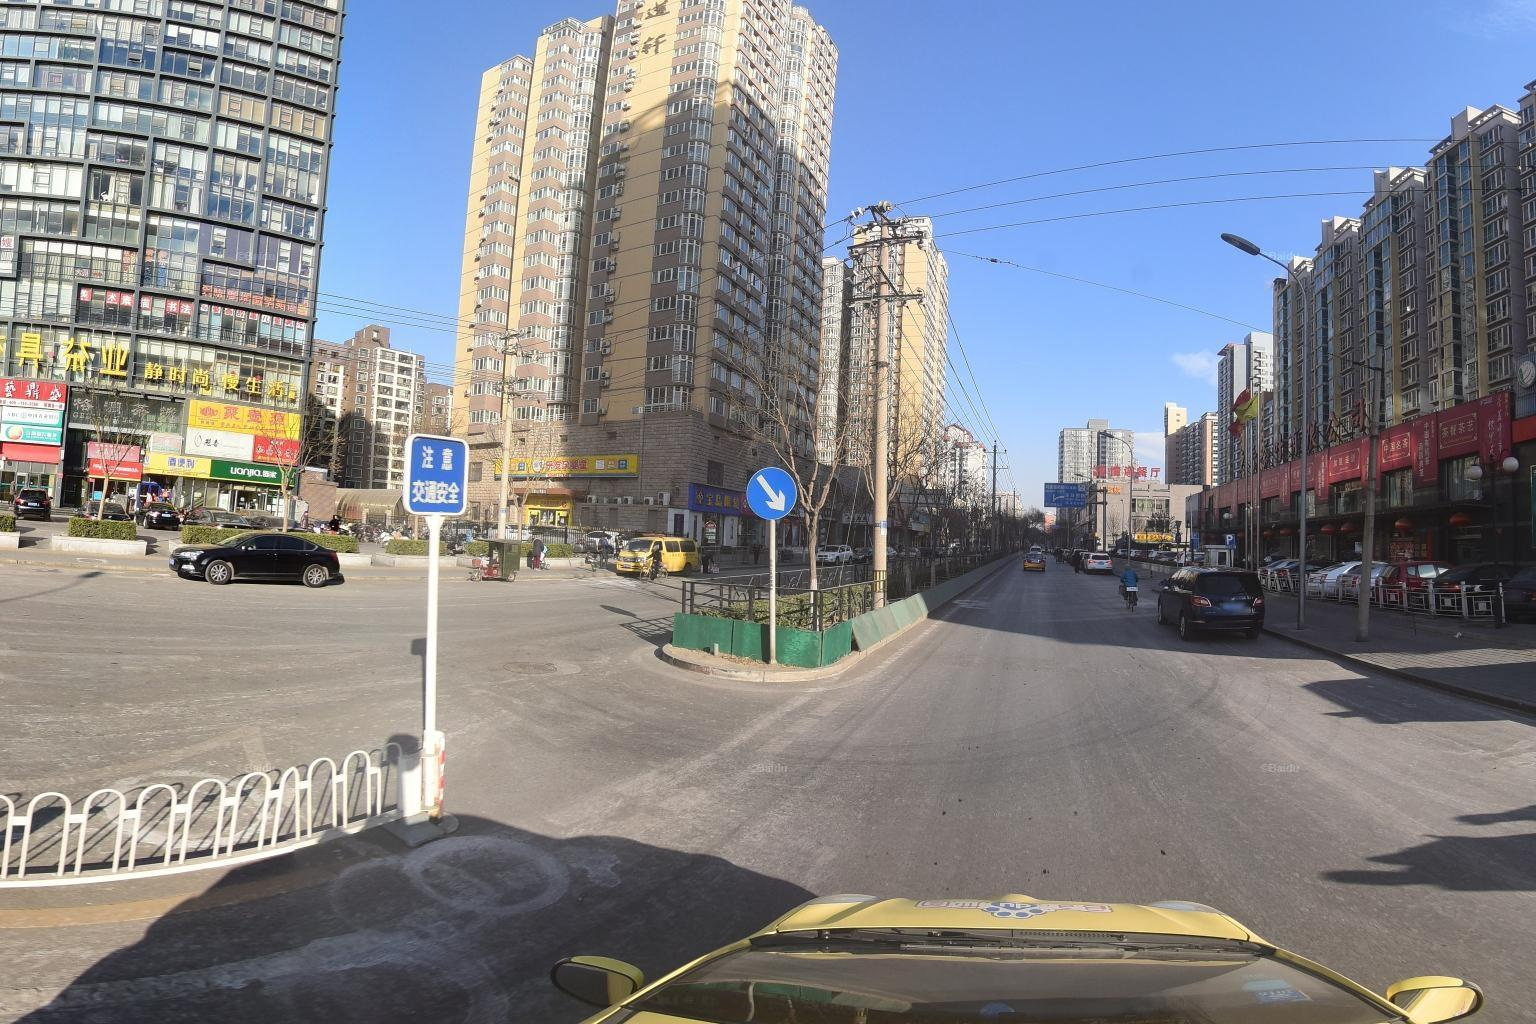trafficsign: (403, 430, 473, 521), (745, 466, 801, 525), (1043, 478, 1089, 513)
